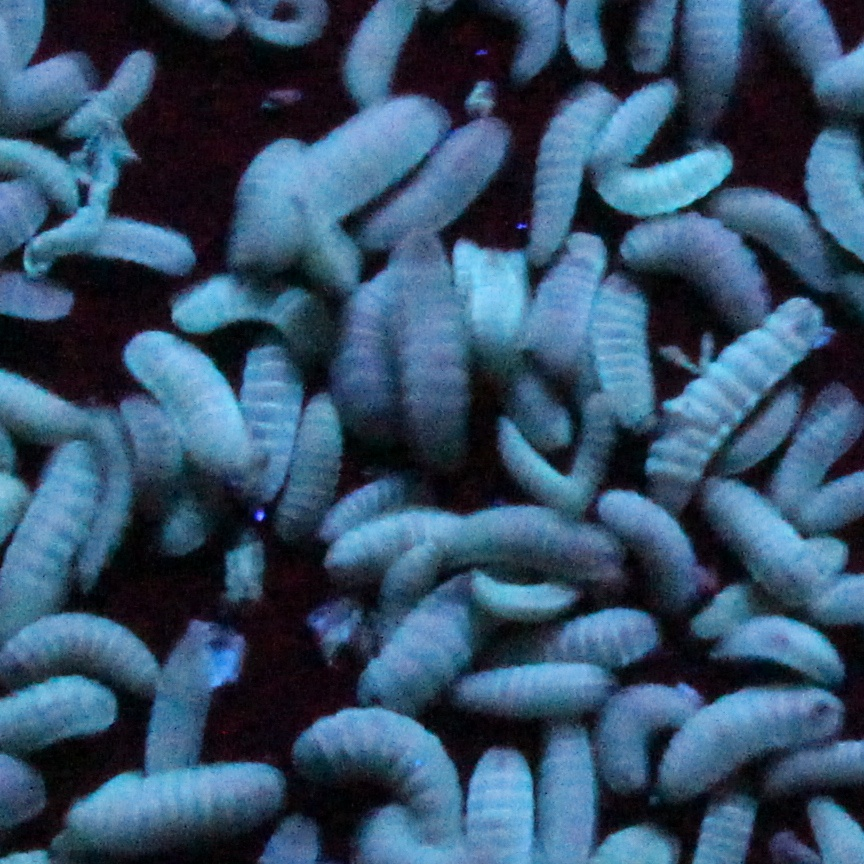larve: (638, 307, 845, 493), (243, 100, 453, 255), (293, 704, 479, 852), (657, 695, 850, 804), (391, 229, 477, 467), (365, 121, 512, 245), (126, 333, 258, 469), (529, 81, 622, 266), (69, 762, 283, 840), (626, 214, 771, 321), (702, 481, 836, 595), (445, 505, 622, 590), (600, 490, 689, 609), (272, 390, 339, 536), (528, 236, 605, 361), (494, 418, 609, 500), (717, 609, 841, 681), (598, 269, 648, 440), (322, 509, 451, 574), (458, 667, 619, 717), (591, 81, 679, 169), (67, 50, 152, 141), (239, 354, 289, 497), (316, 477, 403, 533)
